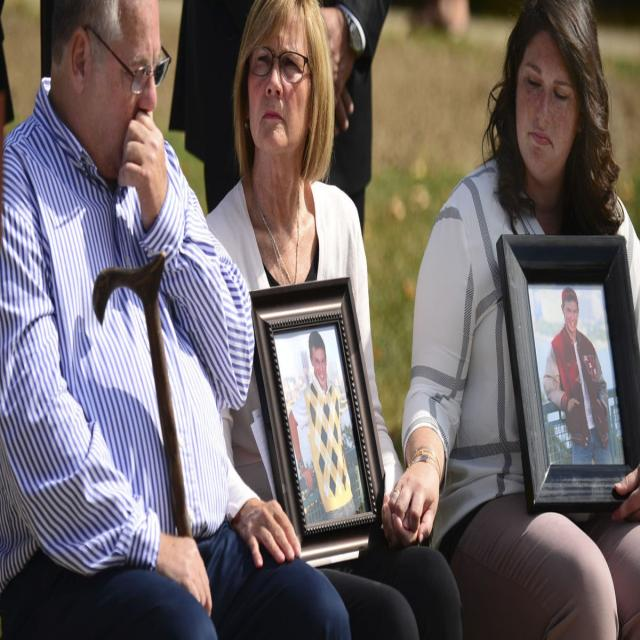body: (0, 0, 364, 639), (201, 1, 467, 640), (379, 0, 640, 639), (165, 0, 408, 293), (2, 0, 105, 200), (287, 327, 358, 521), (541, 282, 614, 470)
